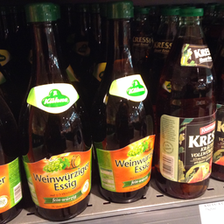vinegar: (19, 6, 94, 221), (94, 2, 156, 203), (157, 9, 220, 200)
